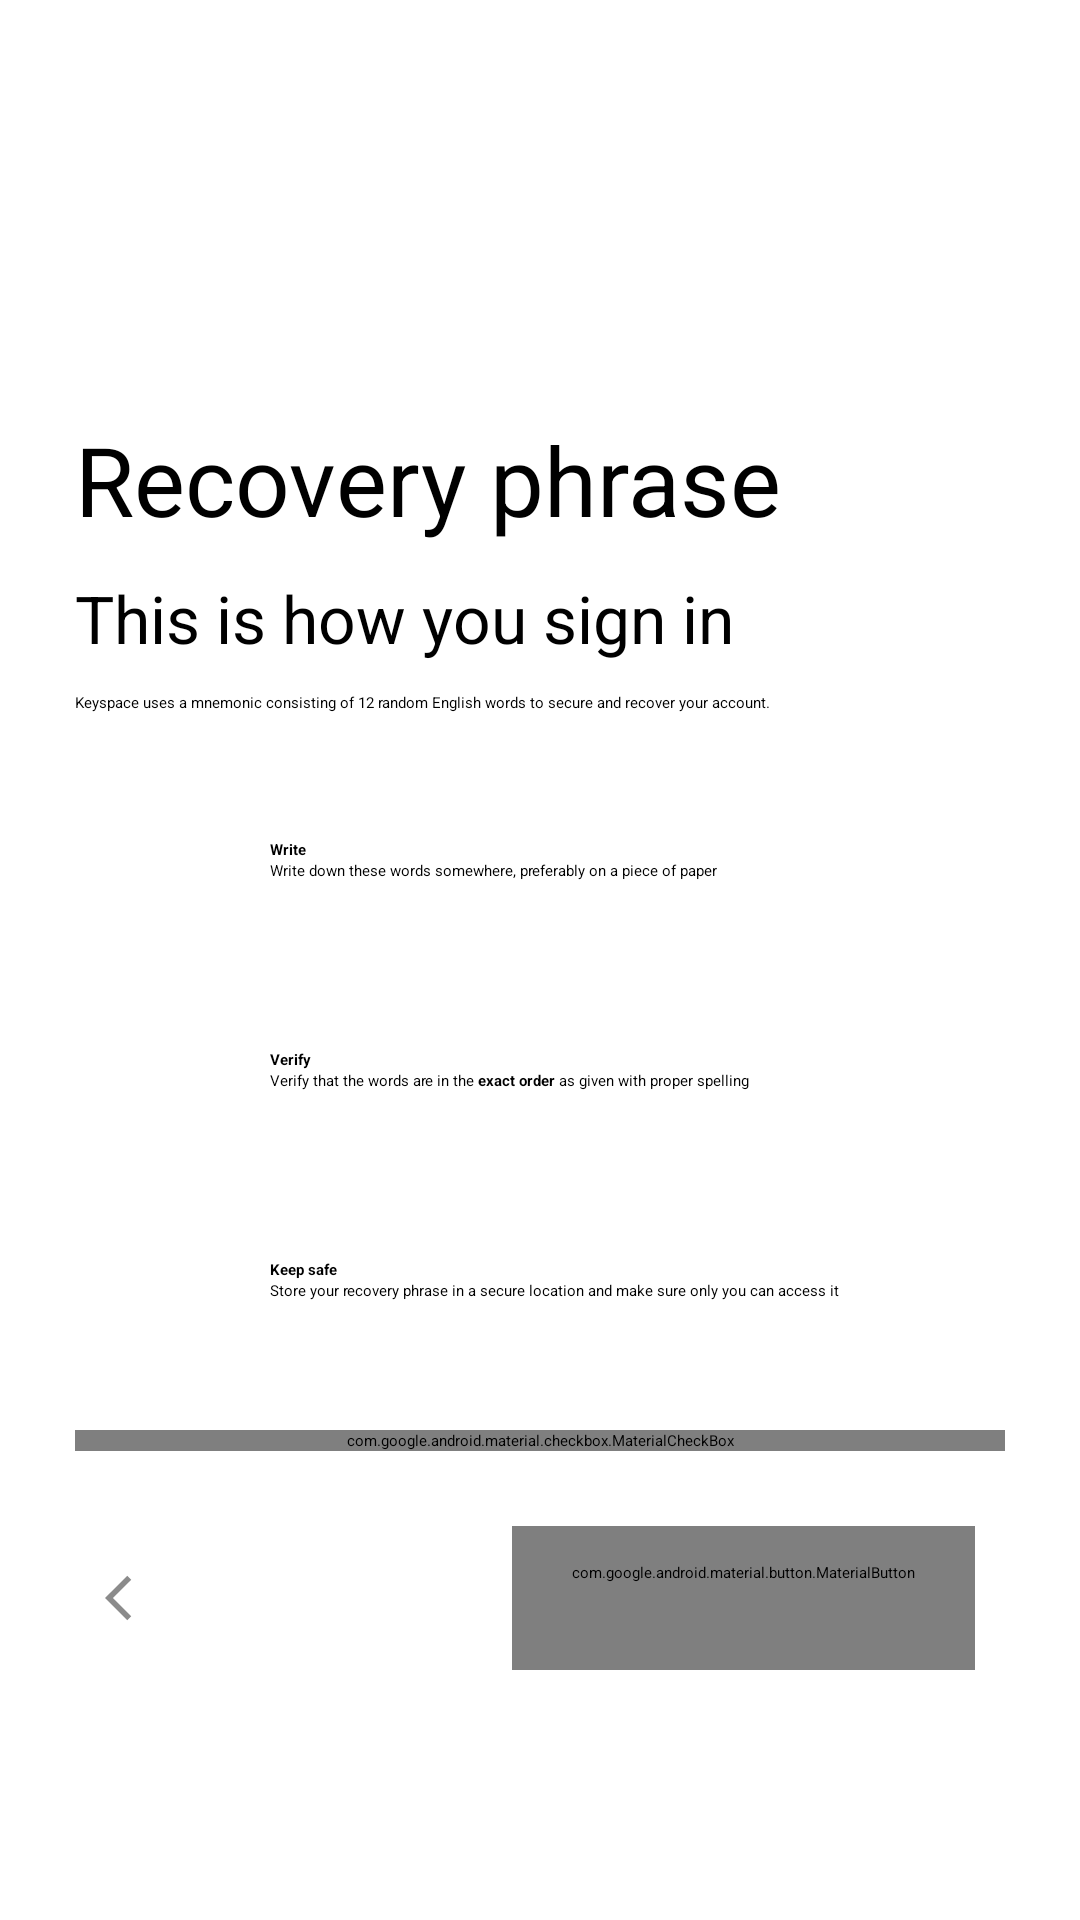

Screen size 1080 x 1920. Icon name, then its box in pixels as Rect(x1, y1, x2, y2):
arrow back: Rect(105, 1576, 131, 1620)
